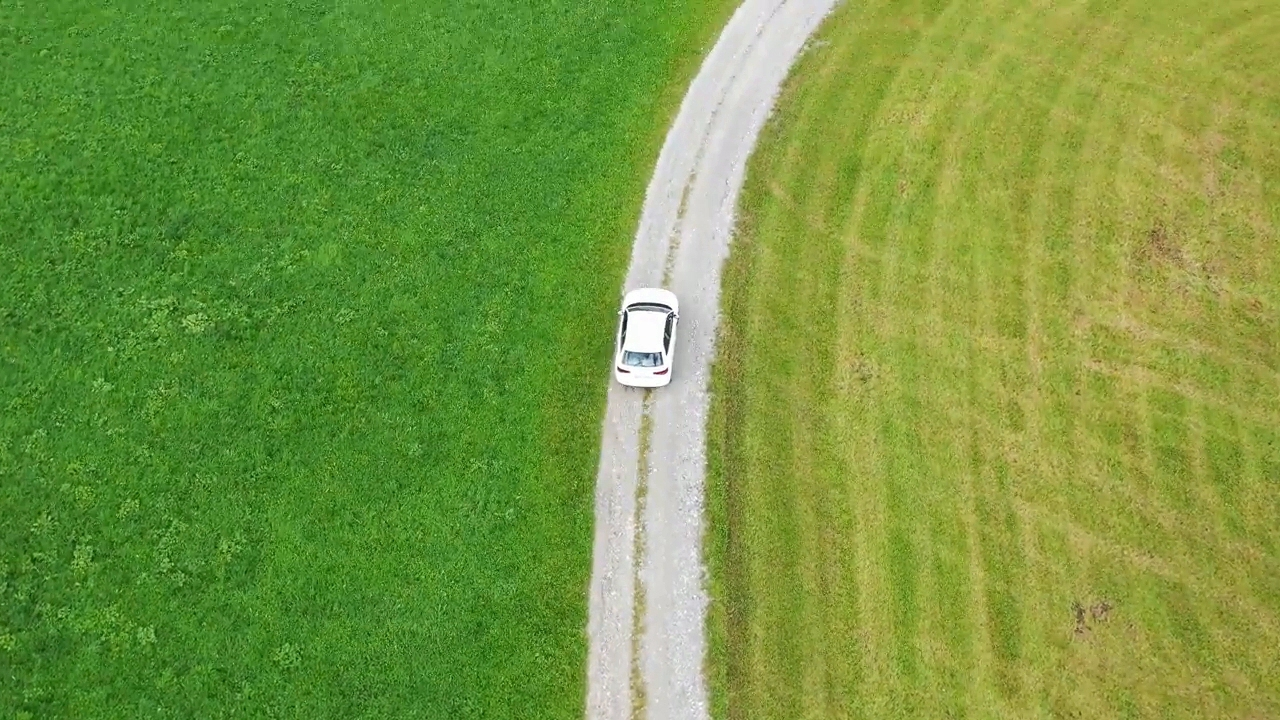araba: (610, 288, 682, 390)
